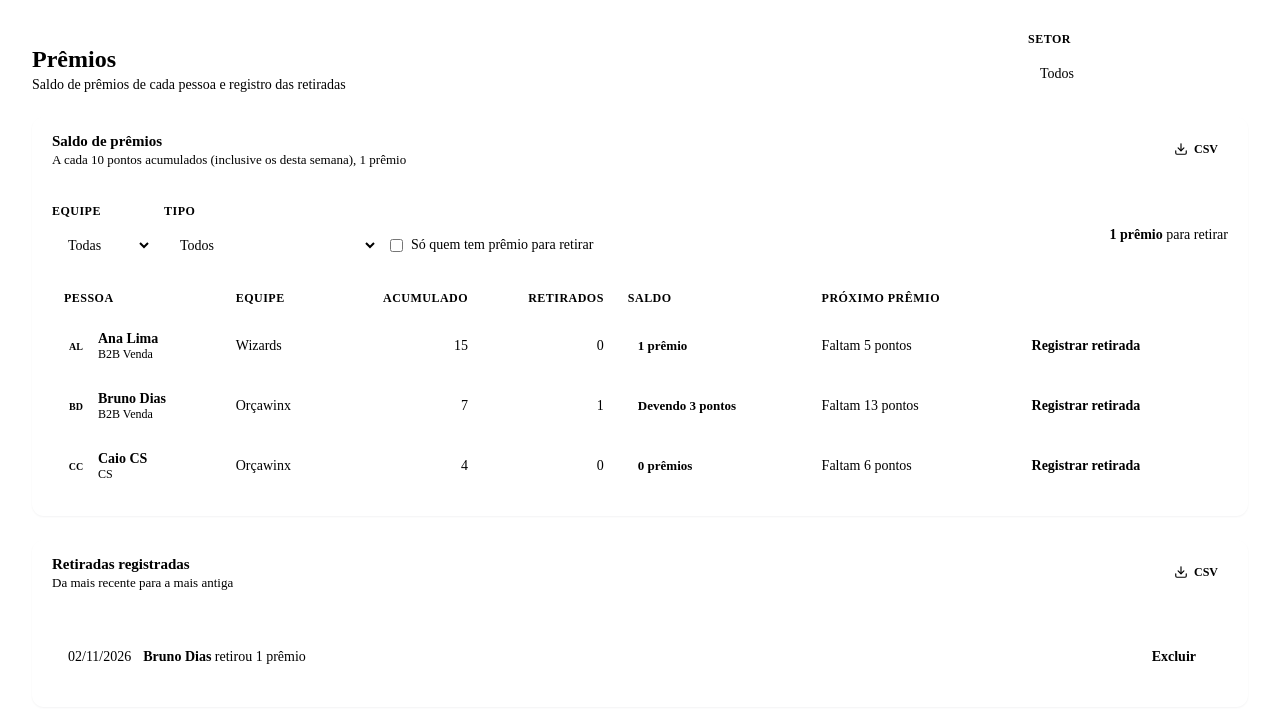
PrizesPage › quantidade 0 não envia
Expected: the element "Saldo de prêmios" is shown, [32,117,1248,516]
Click the button "Registrar retirada" in the row of "Ana Lima" at (1086, 346), box [1016,326,1156,366]
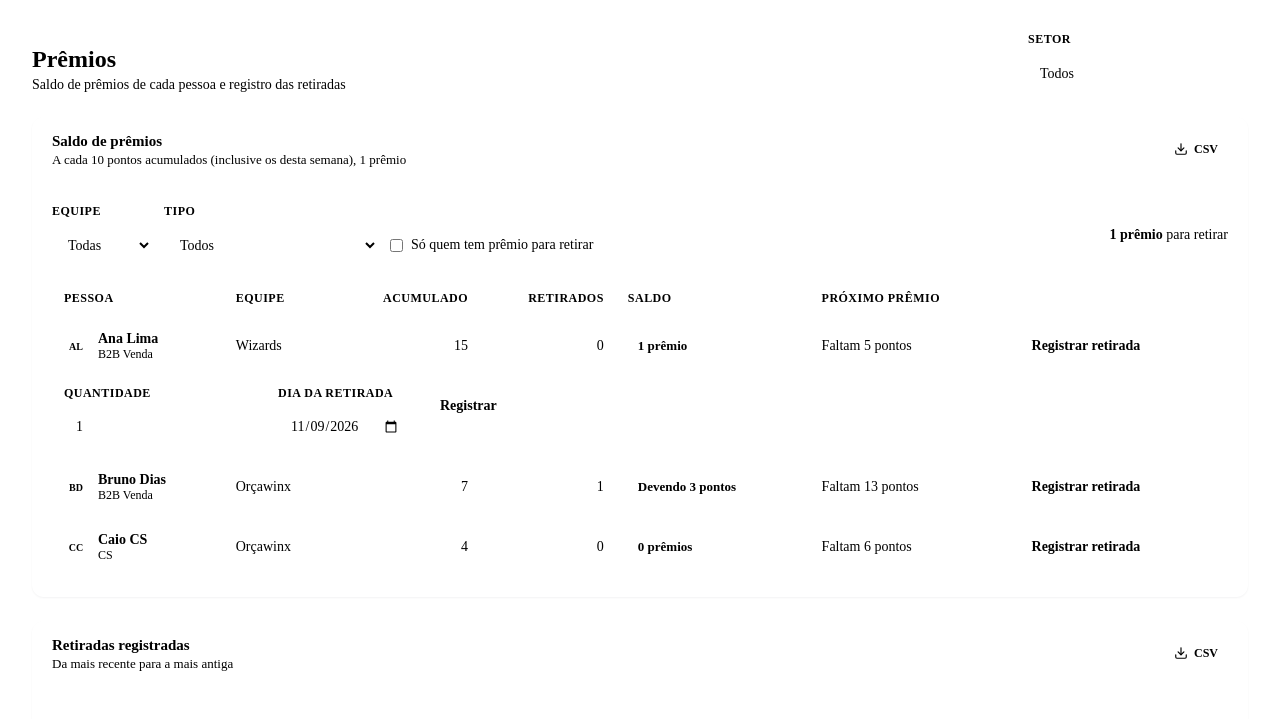
Replace the text in the number field labelled "Quantidade" with "0" at (165, 427), box [64,407,266,447]
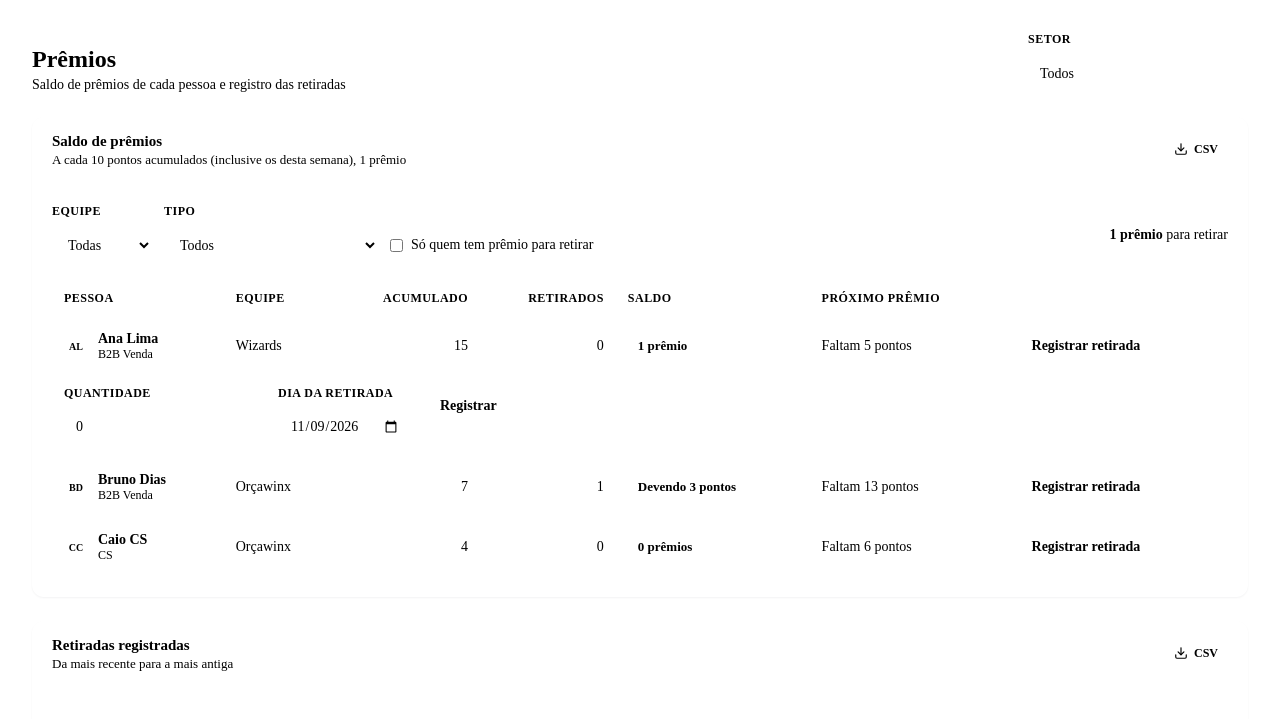
Submit the form named "Registrar retirada de Ana Lima", box [64,386,513,447]
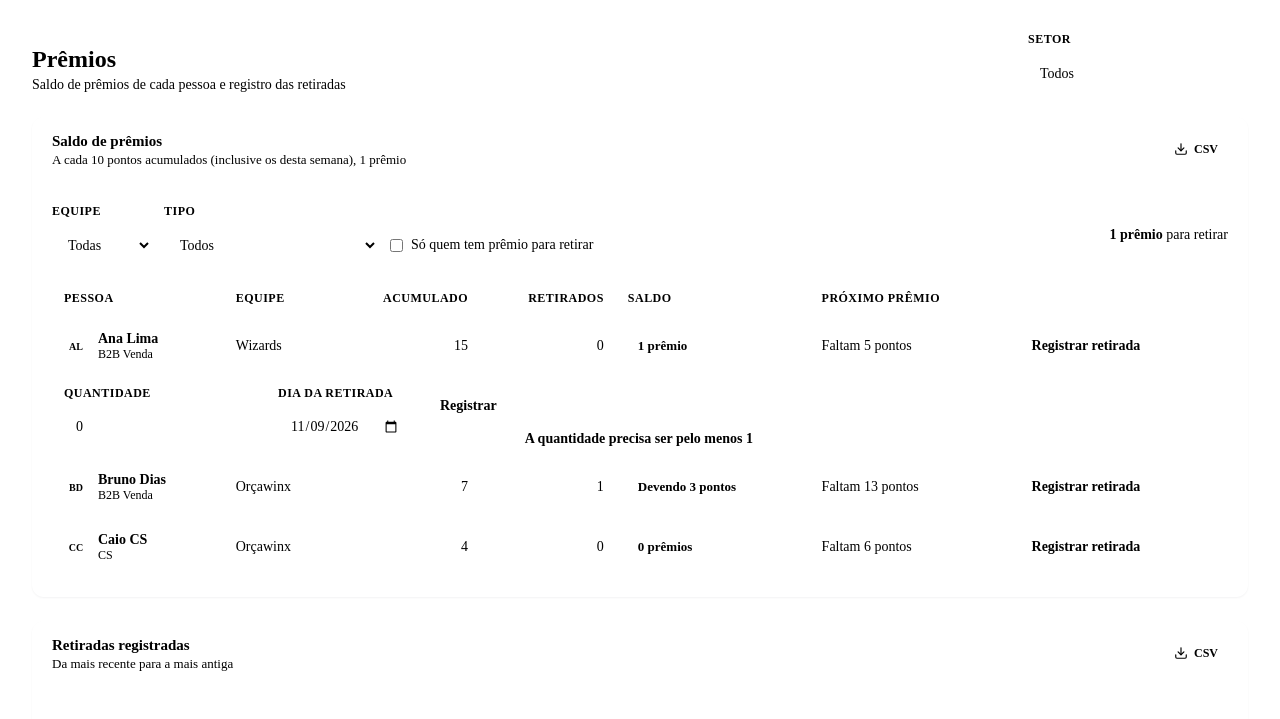
Expected: the text "A quantidade precisa ser pelo menos 1" is shown, [525,431,753,447]
